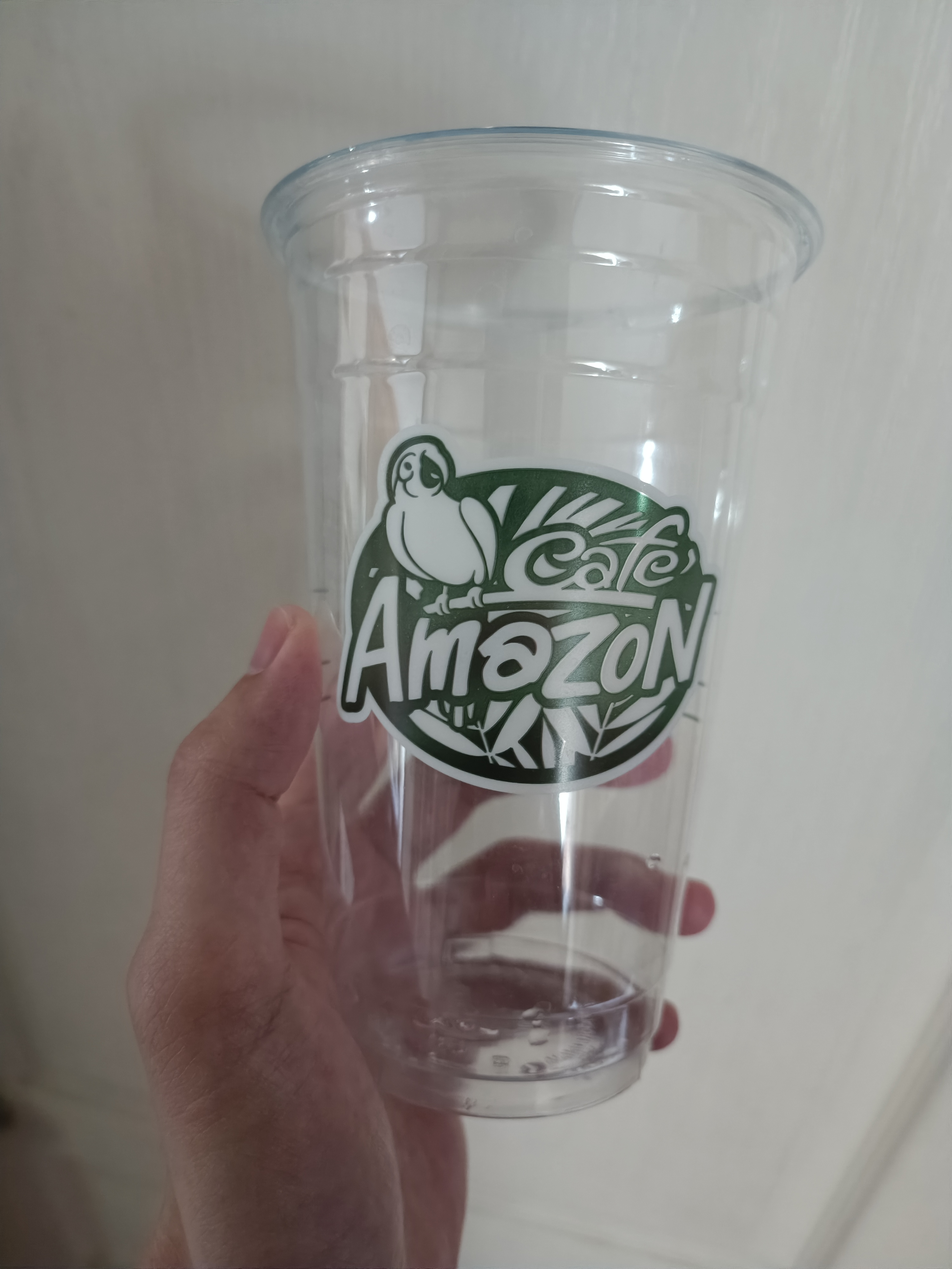plastic: (227, 108, 833, 1132)
